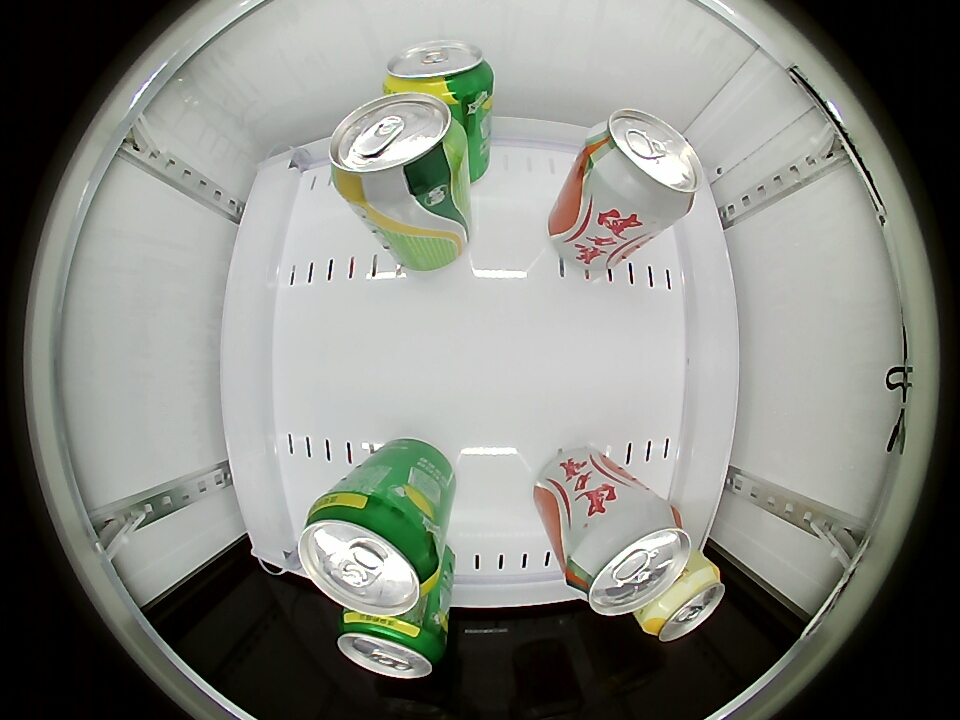jianlibao: (567, 498, 693, 617), (586, 108, 703, 223)
mangguoxiaolao: (640, 562, 726, 642)
quchenshixiangcao: (329, 92, 466, 205)
xuebi2: (298, 491, 440, 615), (336, 610, 448, 678), (384, 40, 492, 102)
